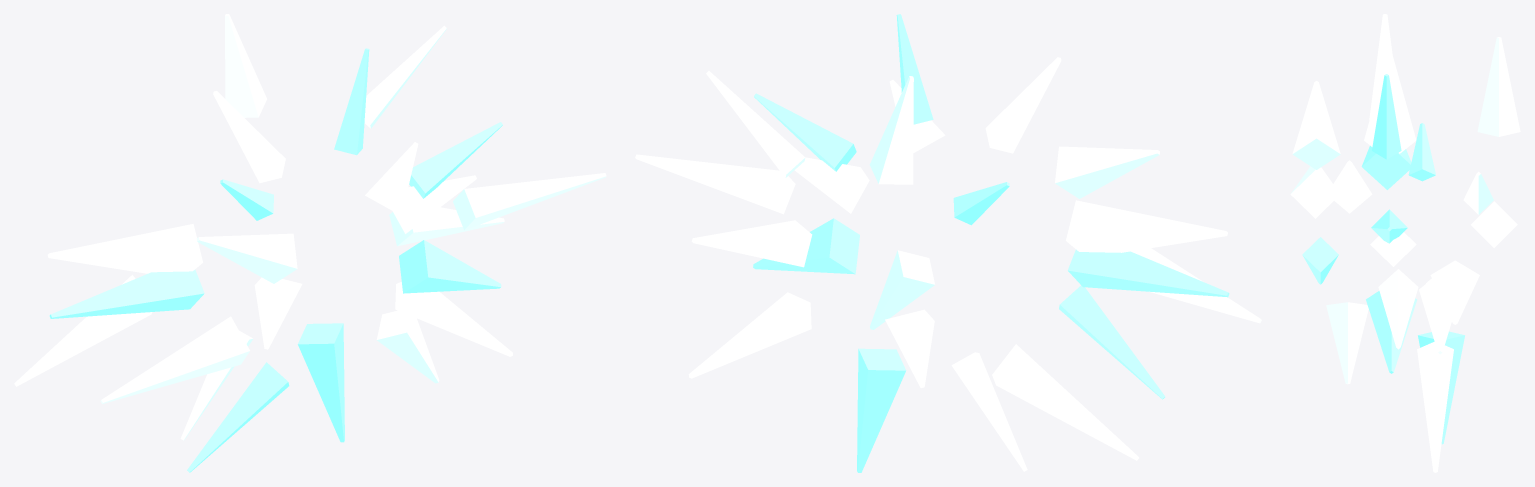
Rendered from frostfracture.glb.
The picture shows the model from 3 angles, left to right: view 1: azimuth 30°, elevation 25°; view 2: azimuth 150°, elevation 25°; view 3: azimuth 270°, elevation 25°; orthographic projection. The views are drawn at different scales.
Parts seen in each view (by area): view 1: Frost Fracture dimensional effect.001; view 2: Frost Fracture dimensional effect.001; view 3: Frost Fracture dimensional effect.001.
Boxes of the visible parts, x1=… form: Frost Fracture dimensional effect.001: x1=14, y1=14, x2=606, y2=472; Frost Fracture dimensional effect.001: x1=635, y1=14, x2=1261, y2=472; Frost Fracture dimensional effect.001: x1=1290, y1=14, x2=1520, y2=472.
Size of the model in its own units: 1.51 by 1.09 by 0.6117.
